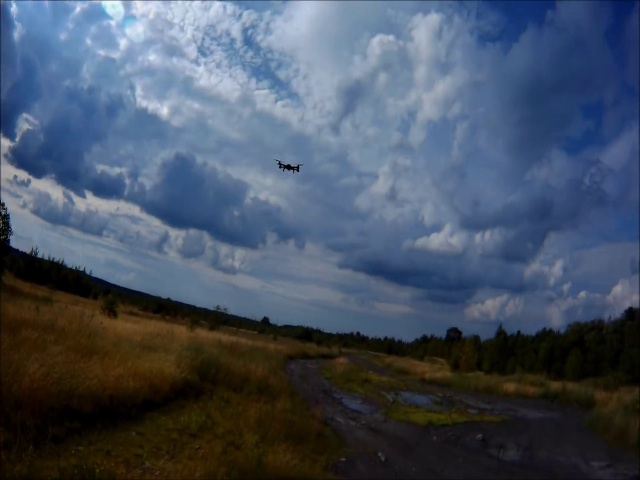drone: (275, 154, 301, 180)
